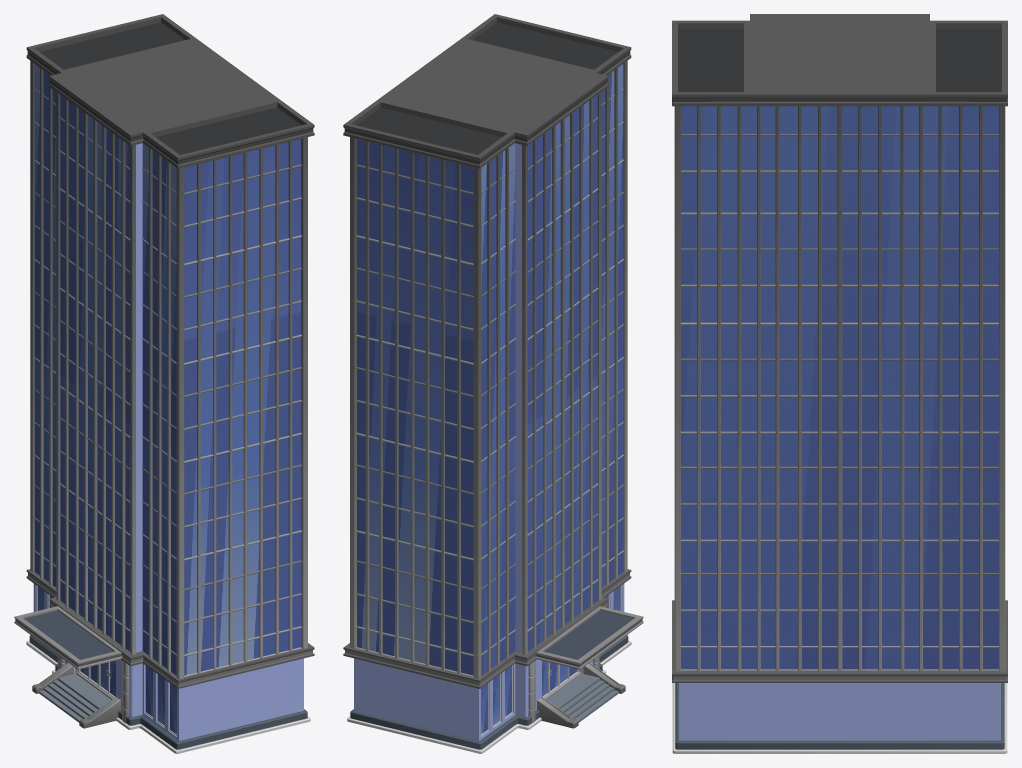
The model's file is Building_17_3_CC.fbx.
3 renders of one model, left to right at view 1: azimuth 30°, elevation 25°; view 2: azimuth 150°, elevation 25°; view 3: azimuth 270°, elevation 25°, orthographic. The views are drawn at different scales.
Parts seen in each view (by area): view 1: Building_17_3_CC; view 2: Building_17_3_CC; view 3: Building_17_3_CC.
Boxes of the visible parts, x1,y1,x2,y2 form: Building_17_3_CC: [14, 14, 314, 753]; Building_17_3_CC: [343, 14, 643, 753]; Building_17_3_CC: [672, 14, 1007, 753].
Bounding box in the file's own units: 857 × 2536 × 1168.
